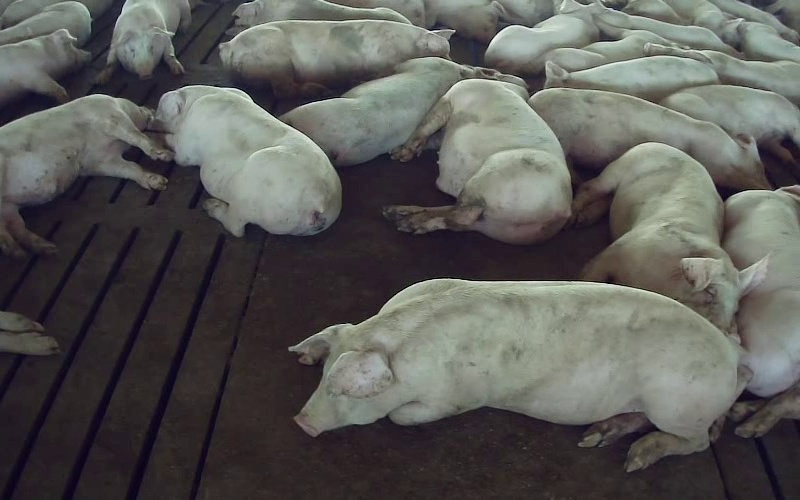pig: (289, 280, 741, 471), (573, 143, 766, 332), (385, 73, 570, 243), (152, 85, 341, 235), (0, 94, 170, 256), (529, 88, 770, 190), (280, 57, 491, 165), (723, 186, 799, 436), (219, 20, 449, 96), (661, 85, 799, 162), (644, 43, 799, 105), (484, 0, 605, 73), (544, 56, 718, 102), (97, 0, 190, 82), (545, 16, 675, 71), (0, 29, 90, 107), (226, 0, 410, 35)
